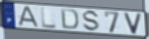7: (103, 11, 120, 34)
A: (17, 6, 41, 28)
D: (60, 8, 80, 31)
L: (40, 7, 58, 30)
S: (82, 9, 101, 32)
V: (123, 12, 144, 36)
